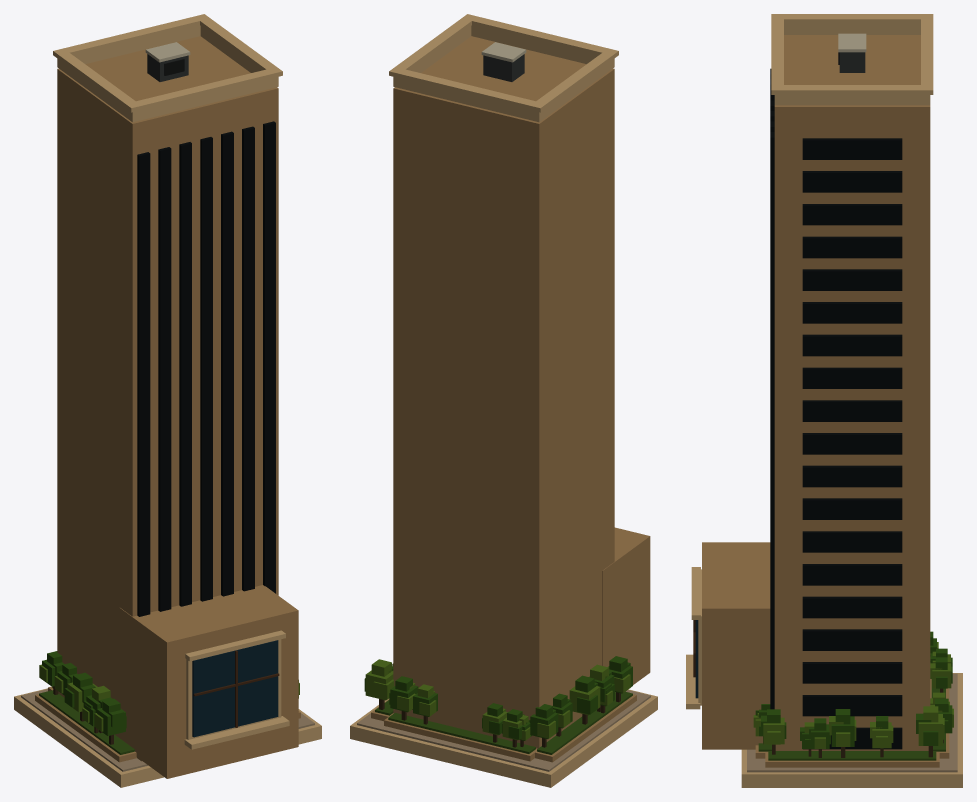
Rendered from SM_Mapa_010.fbx.
The picture shows the model from 3 angles, left to right: view 1: azimuth 30°, elevation 25°; view 2: azimuth 150°, elevation 25°; view 3: azimuth 270°, elevation 25°; orthographic projection. The views are drawn at different scales.
Parts seen in each view (by area): view 1: SM_Mapa_010; view 2: SM_Mapa_010; view 3: SM_Mapa_010.
Boxes of the visible parts, box(x1,y1,x2,y2) form: SM_Mapa_010: box(14, 14, 321, 787); SM_Mapa_010: box(350, 14, 657, 787); SM_Mapa_010: box(686, 14, 962, 787).
Bounding box in the file's own units: 14 × 16.16 × 44.83.
